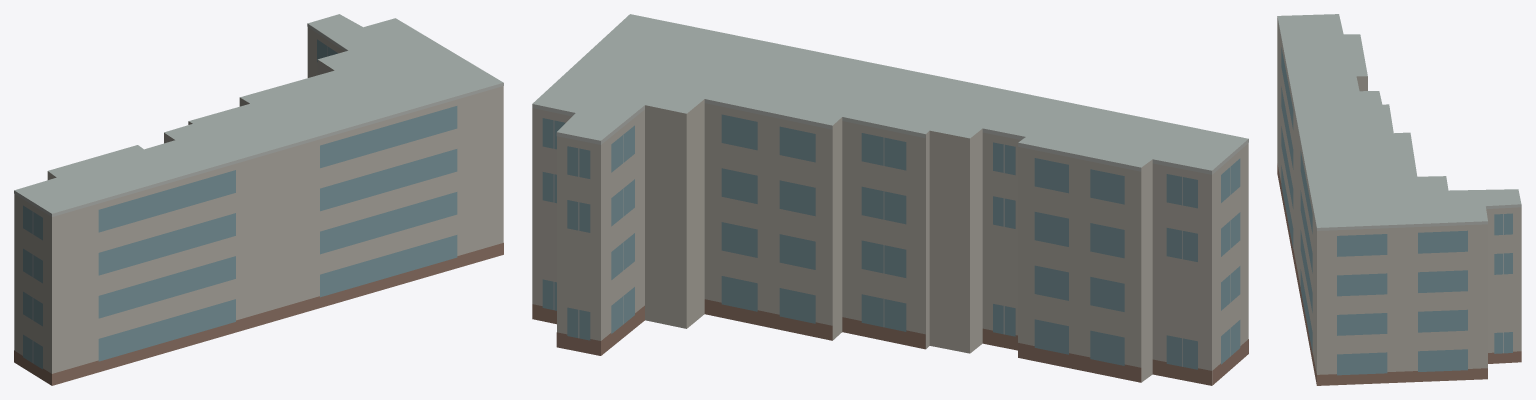
The model's file is survey-upis-32993285.glb.
The picture shows the model from 3 angles, left to right: view 1: azimuth 30°, elevation 25°; view 2: azimuth 150°, elevation 25°; view 3: azimuth 270°, elevation 25°; orthographic projection. The views are drawn at different scales.
Parts seen in each view (by area): view 1: survey-upis-32993285.tmp; view 2: survey-upis-32993285.tmp; view 3: survey-upis-32993285.tmp.
Boxes of the visible parts, x1=… form: survey-upis-32993285.tmp: x1=14, y1=14, x2=503, y2=385; survey-upis-32993285.tmp: x1=532, y1=14, x2=1248, y2=385; survey-upis-32993285.tmp: x1=1277, y1=14, x2=1521, y2=385.
Size of the model in its own units: 37.13 by 12.78 by 17.9.
